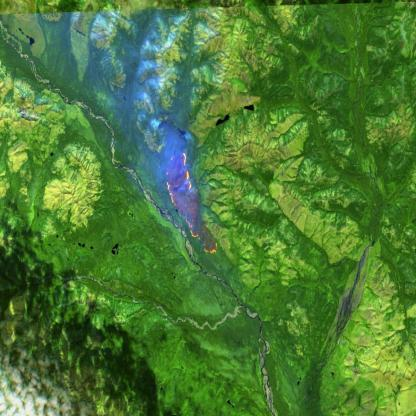fire: (162, 148, 221, 258)
